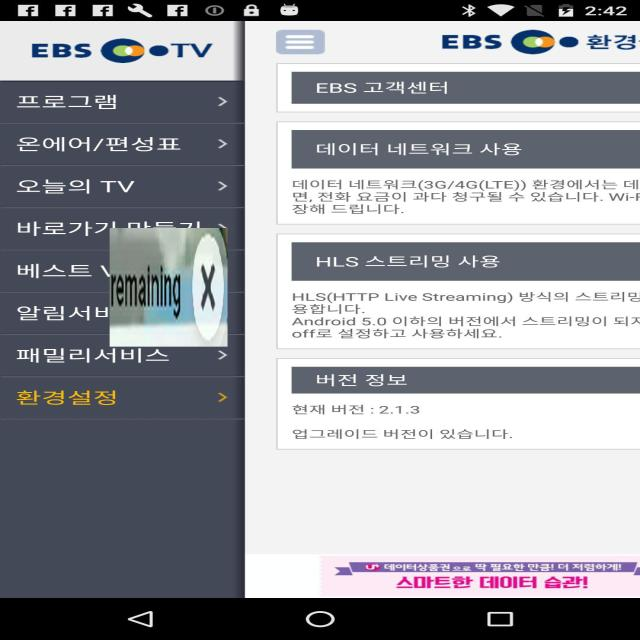misdirection: (110, 228, 228, 347)
